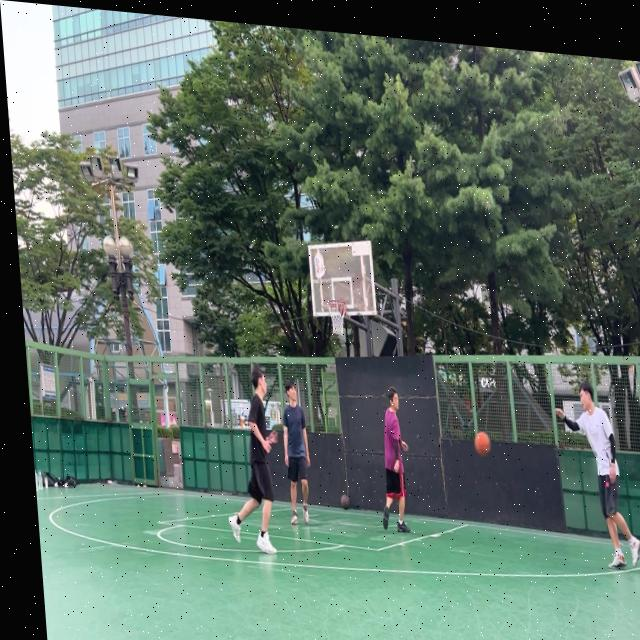basketball: (473, 430, 492, 459), (340, 493, 351, 511)
hoop: (325, 297, 349, 337)
